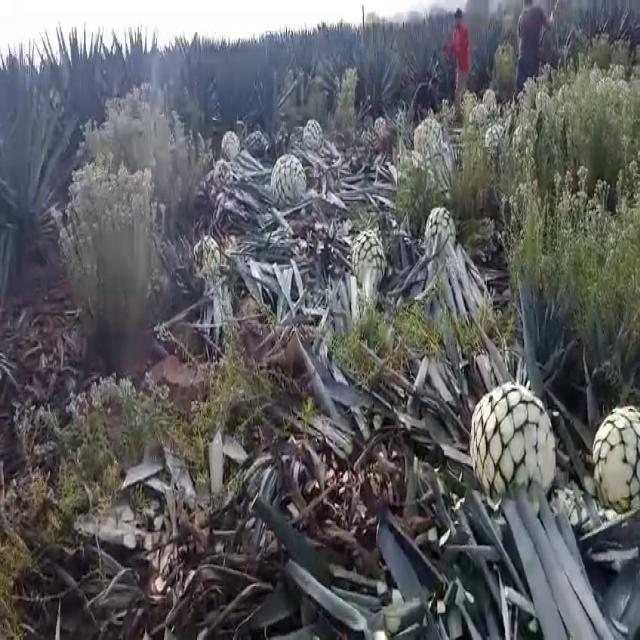agave: (466, 376, 559, 518), (587, 396, 640, 526), (348, 225, 387, 293), (266, 151, 310, 207), (420, 204, 458, 266), (414, 113, 443, 165), (192, 231, 224, 278), (209, 154, 233, 192), (301, 116, 324, 151), (217, 128, 240, 160)
